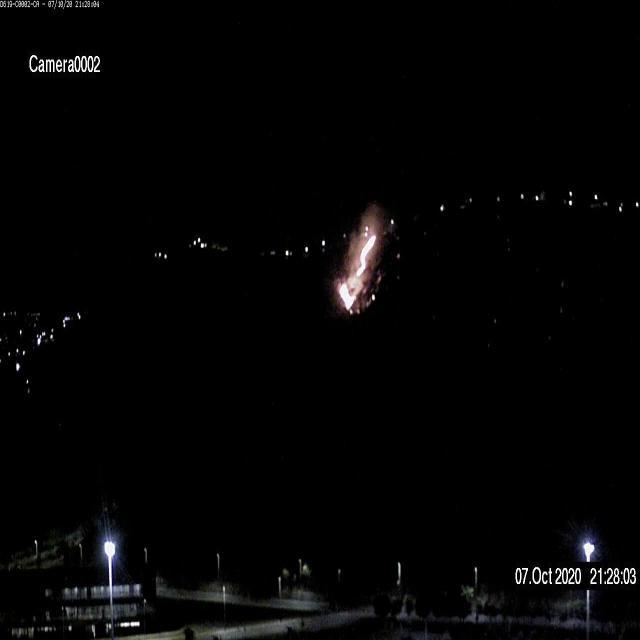Fire: (337, 220, 379, 313)
Smoke: (328, 202, 388, 314)
